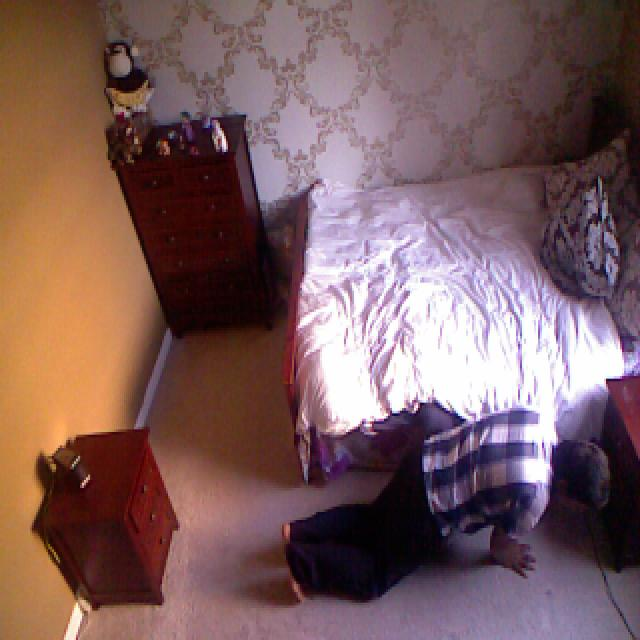crawling: (269, 422, 623, 608)
